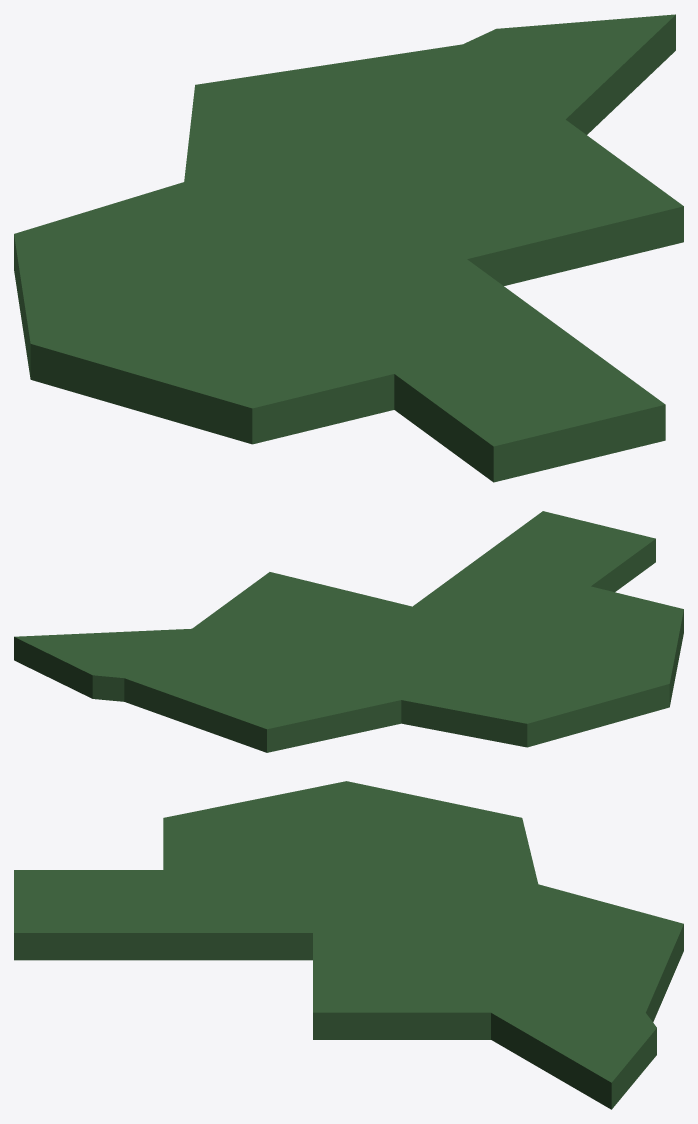
File: x_proval_00_16_1_rmstrd.fbx
3 views of the same model, one above another, from view 1: azimuth 30°, elevation 25°; view 2: azimuth 150°, elevation 25°; view 3: azimuth 270°, elevation 25° (orthographic). The views are drawn at different scales.
Visible parts, largest first — view 1: x_proval_00_16_1_rmstrd1; view 2: x_proval_00_16_1_rmstrd1; view 3: x_proval_00_16_1_rmstrd1.
Part boxes in pixels (<box>): x_proval_00_16_1_rmstrd1: <box>14,14,683,482</box>; x_proval_00_16_1_rmstrd1: <box>14,511,683,752</box>; x_proval_00_16_1_rmstrd1: <box>14,781,683,1109</box>.
Size of the model in its own units: 4.78 by 0.2 by 4.48.
